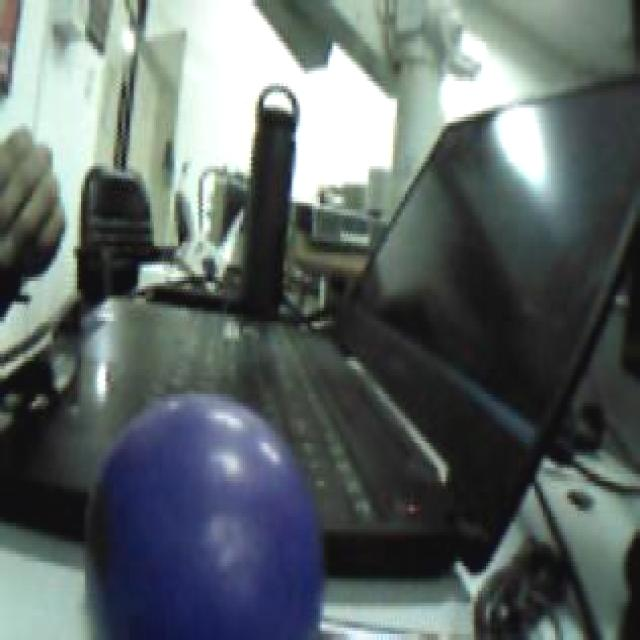BallPurple: (86, 389, 322, 640)
